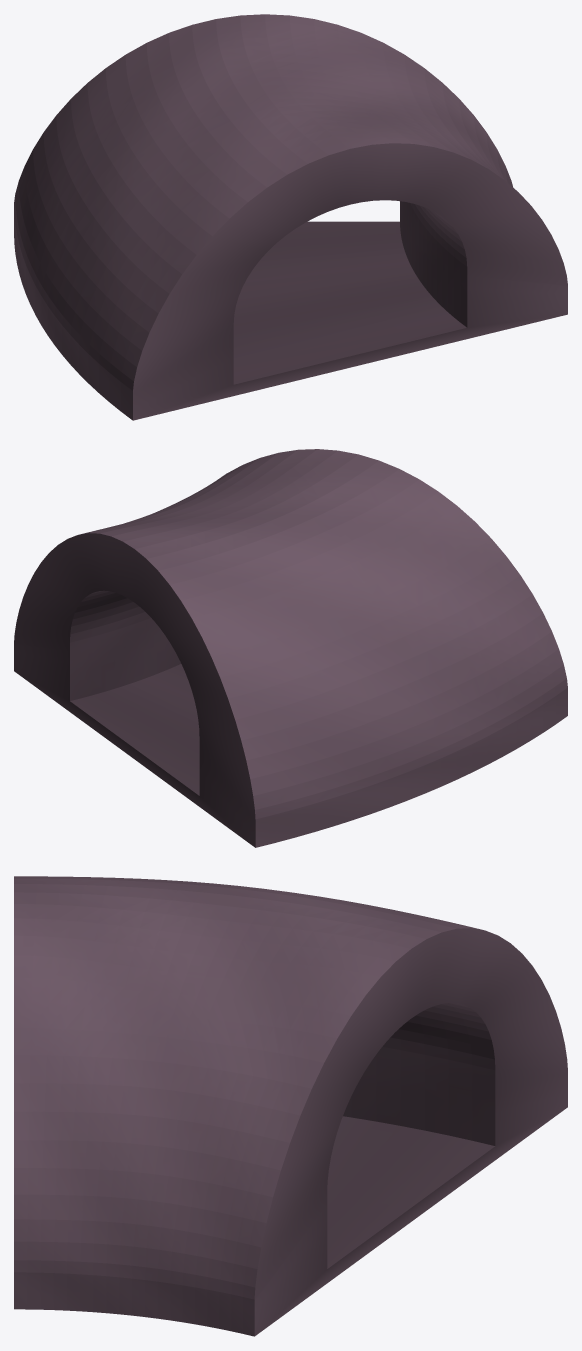
The model's file is curve_right_30_terrain.glb.
3 renders of one model, top to bottom at view 1: azimuth 30°, elevation 25°; view 2: azimuth 150°, elevation 25°; view 3: azimuth 270°, elevation 25°, orthographic. The views are drawn at different scales.
Parts seen in each view (by area): view 1: TerrainRoof.008; view 2: TerrainRoof.008; view 3: TerrainRoof.008.
Part boxes in pixels (bbox=[...]): TerrainRoof.008: bbox=[14, 14, 567, 420]; TerrainRoof.008: bbox=[14, 449, 567, 847]; TerrainRoof.008: bbox=[14, 876, 567, 1336].
Bounding box in the file's own units: 31.32 × 13.65 × 25.1.
